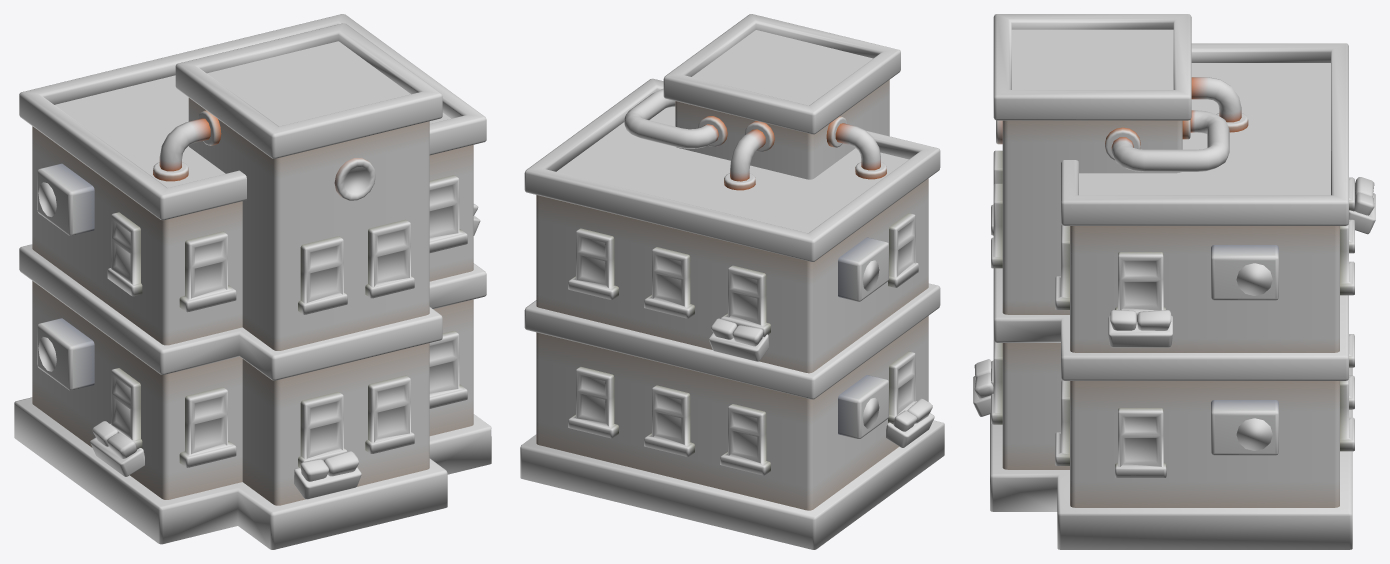
The model's file is Building_063.fbx.
3 renders of one model, left to right at view 1: azimuth 30°, elevation 25°; view 2: azimuth 150°, elevation 25°; view 3: azimuth 270°, elevation 25°, orthographic. The views are drawn at different scales.
Visible parts, largest first — view 1: Building_063; view 2: Building_063; view 3: Building_063.
Boxes of the visible parts, x1,y1,x2,y2 form: Building_063: (14, 14, 491, 549); Building_063: (520, 14, 944, 549); Building_063: (973, 14, 1375, 549).
Bounding box in the file's own units: 930 × 894 × 1015.
